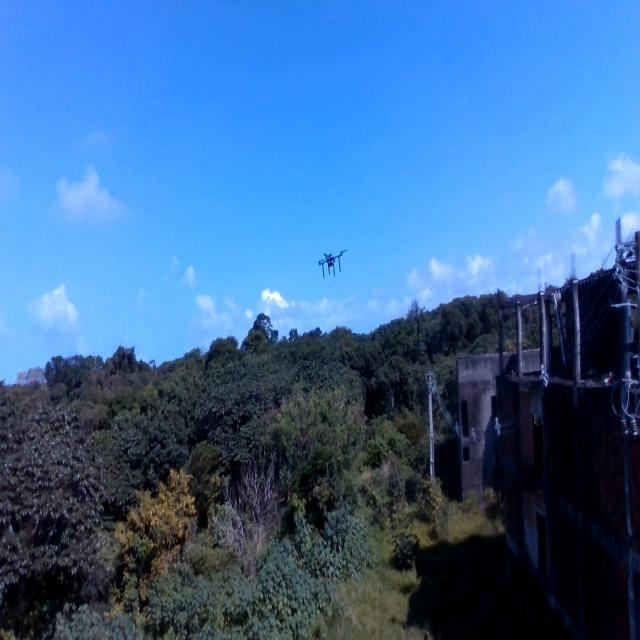-uav-: (314, 240, 349, 296)
